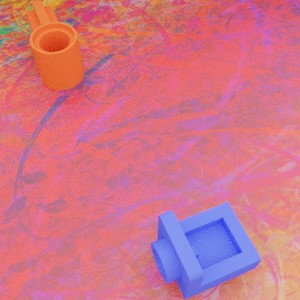lego: (150, 201, 261, 299), (25, 0, 84, 90)
